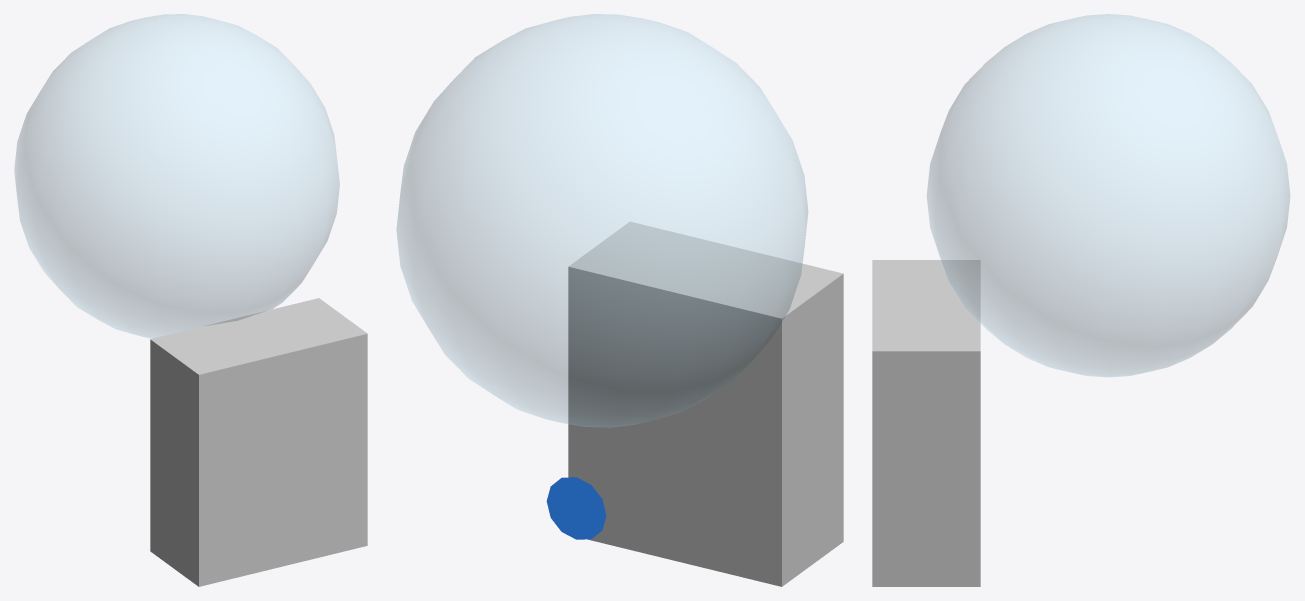
Rendered from outfit-astronautSuit.glb.
3 renders of one model, left to right at view 1: azimuth 30°, elevation 25°; view 2: azimuth 150°, elevation 25°; view 3: azimuth 270°, elevation 25°, orthographic. The views are drawn at different scales.
Visible parts, largest first — view 1: head, astronautSuit; view 2: head, astronautSuit, torso; view 3: head, astronautSuit.
Boxes of the visible parts, x1,y1,x2,y2 form: head: (14, 14, 339, 338); astronautSuit: (150, 298, 367, 586); head: (396, 14, 807, 427); astronautSuit: (568, 221, 843, 586); torso: (546, 477, 606, 539); head: (927, 14, 1289, 377); astronautSuit: (872, 260, 980, 586).
Bounding box in the file's own units: 0.84 × 1.3 × 0.965.
